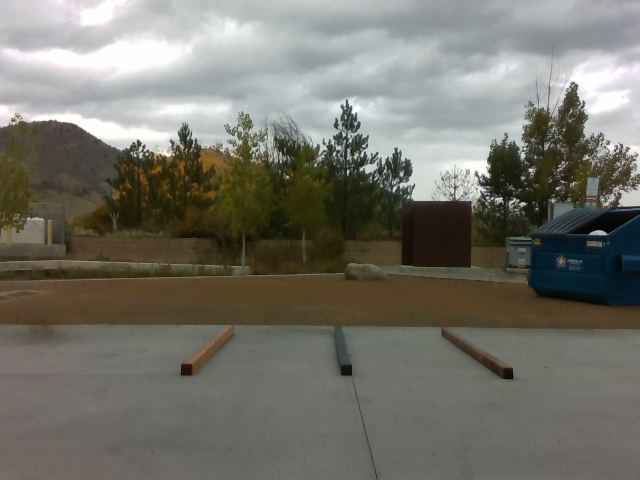dunnage: (177, 324, 517, 381)
